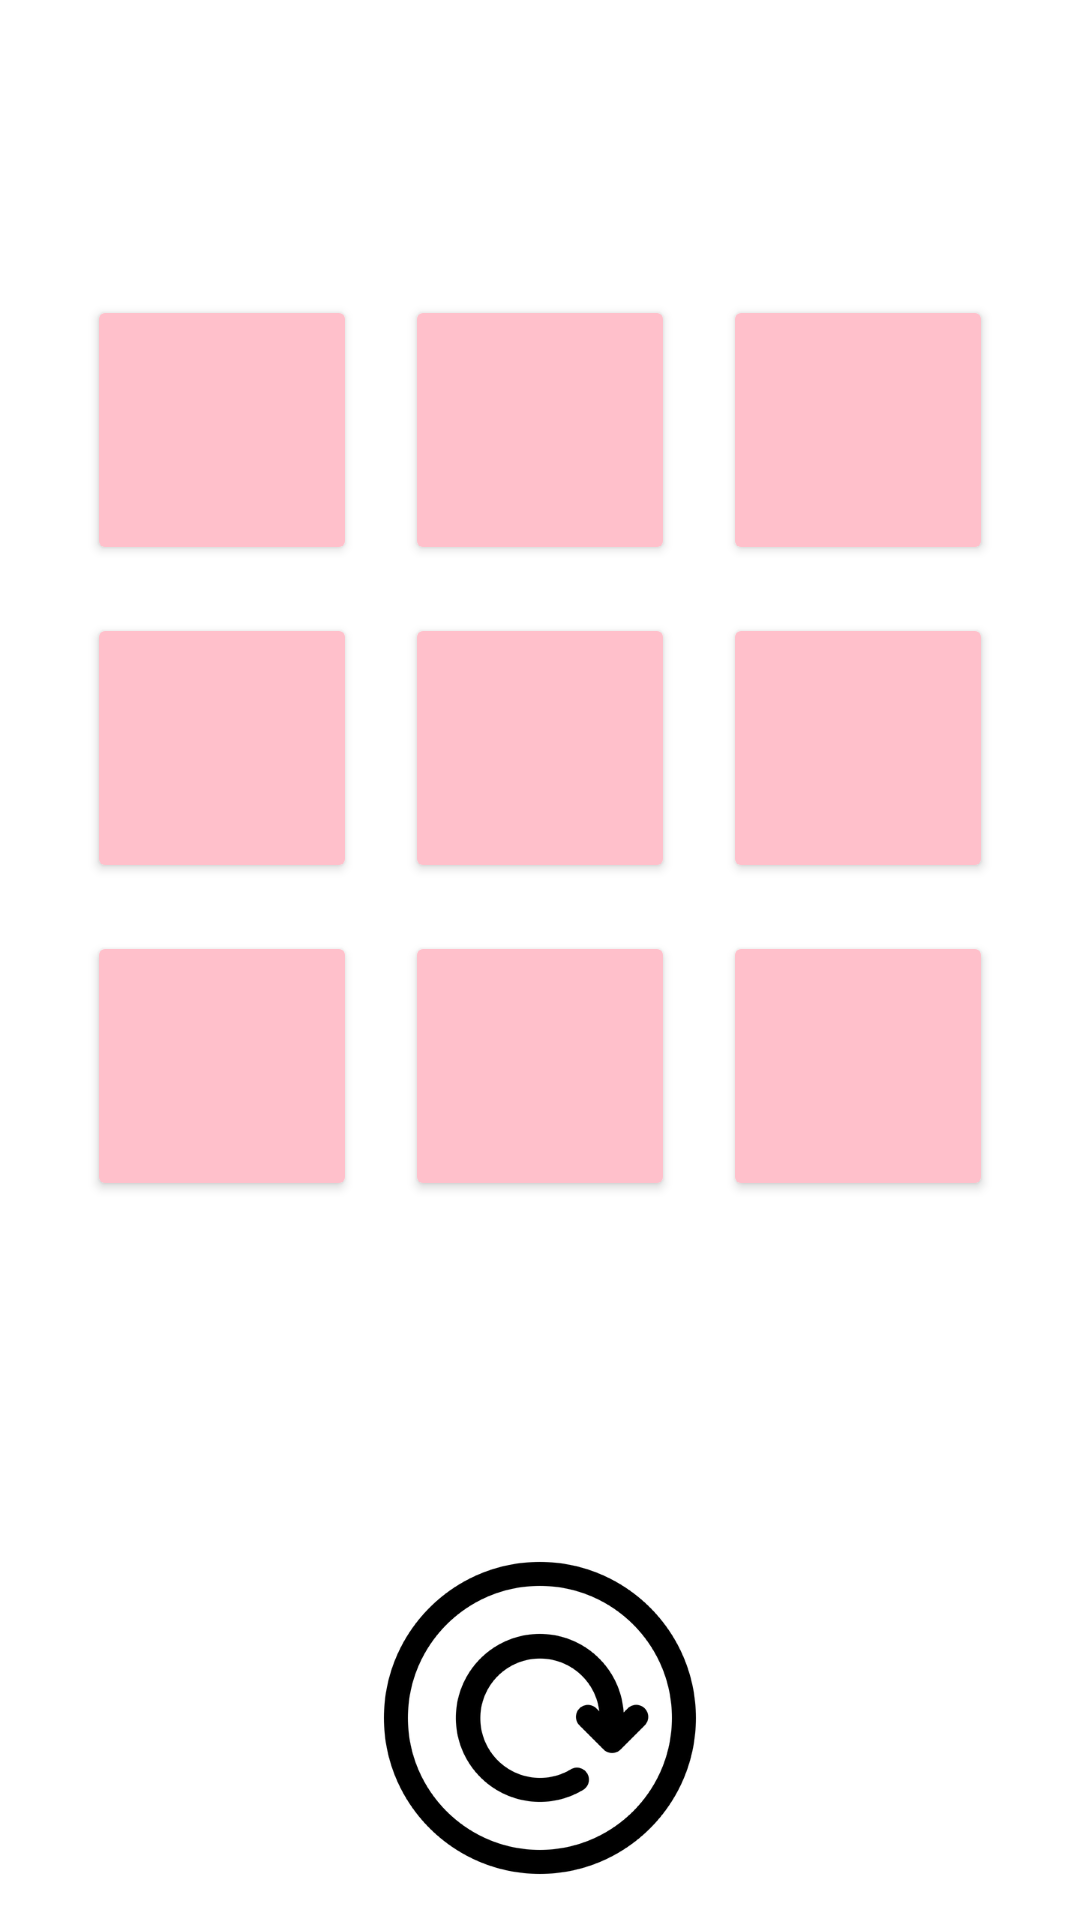

Where to tap for icons on this 1080x1920 app screen, as point (x, y):
reload: point (540, 1718)
